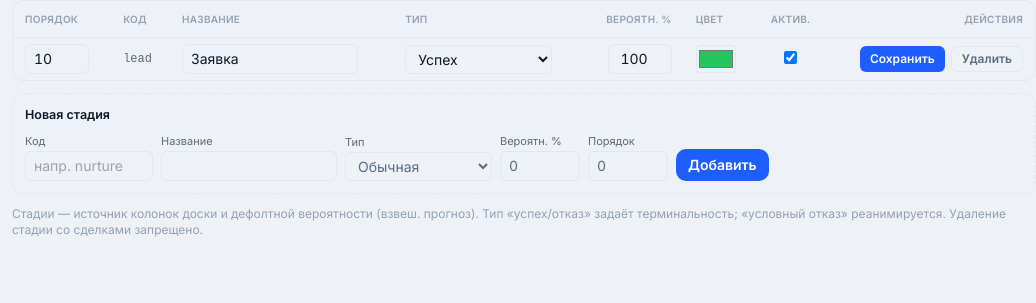
Test: DealStageEditor › неудачное сохранение (updateStage=false) показывает ошибку, а не «Сохранено»
Expected: the field showing "Заявка" is shown, [182,44,358,74]
Click the button "Сохранить".
click(902, 59)  # box [860,46,945,72]
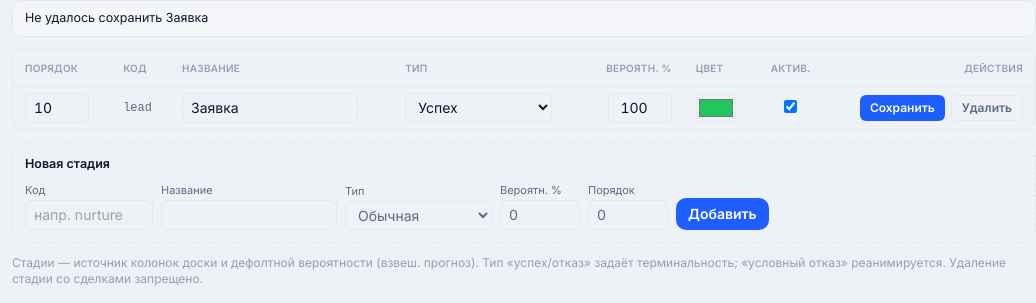
Result: the text "Не удалось сохранить Заявка" is shown at [12,0,1035,37]
